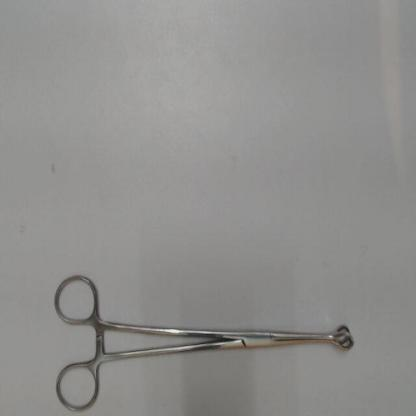8 Babcock Tissue Forceps: (46, 267, 354, 412)
